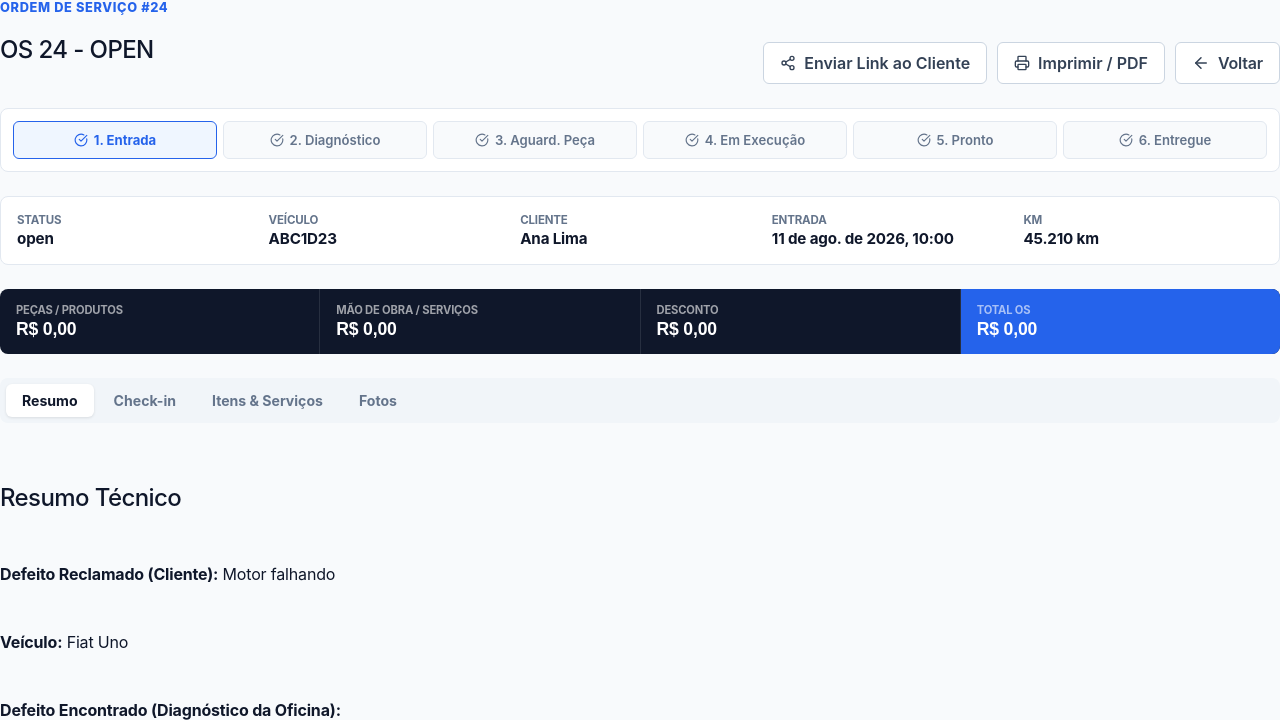
Test: service order workflow › displays detailed error message when item insertion fails
Expected: the heading "OS 24 - OPEN" is shown, [0,35,168,64]
Click the tab "Itens & Serviços" at coordinates (268, 400), box [196,384,339,417]
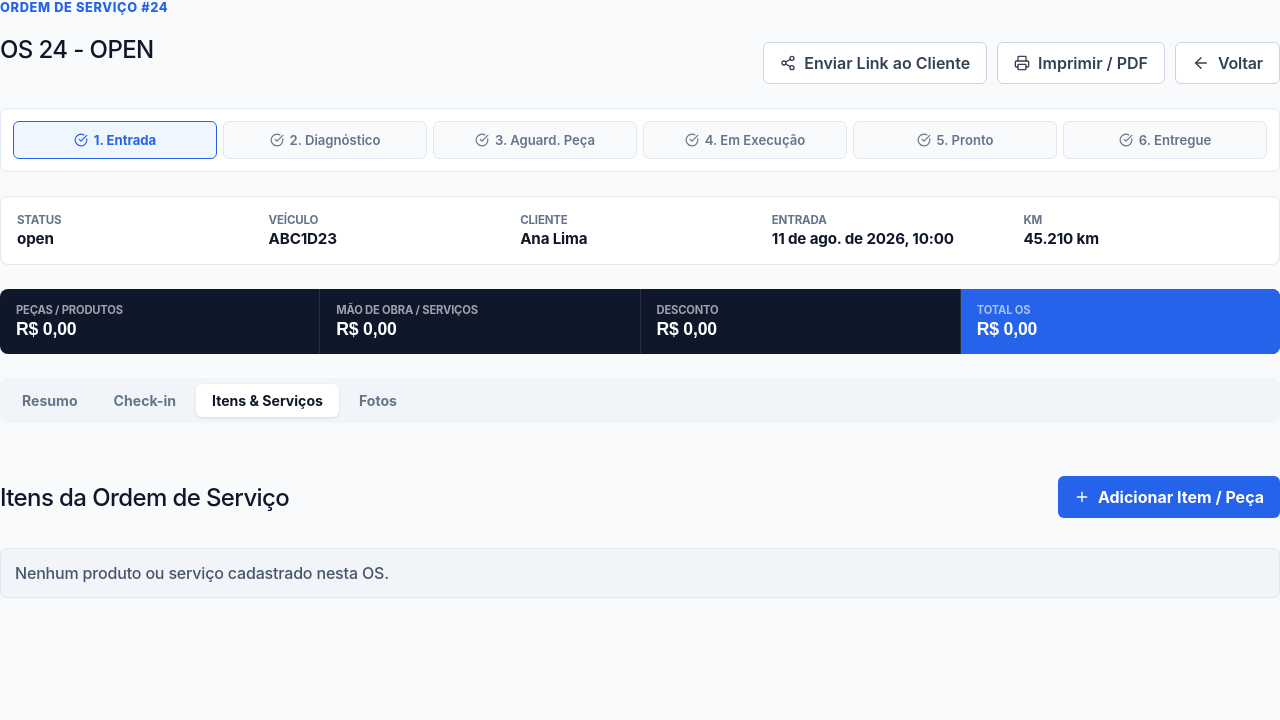
Click the button "Adicionar Item / Peça" at coordinates (1169, 497), box [1058,476,1279,518]
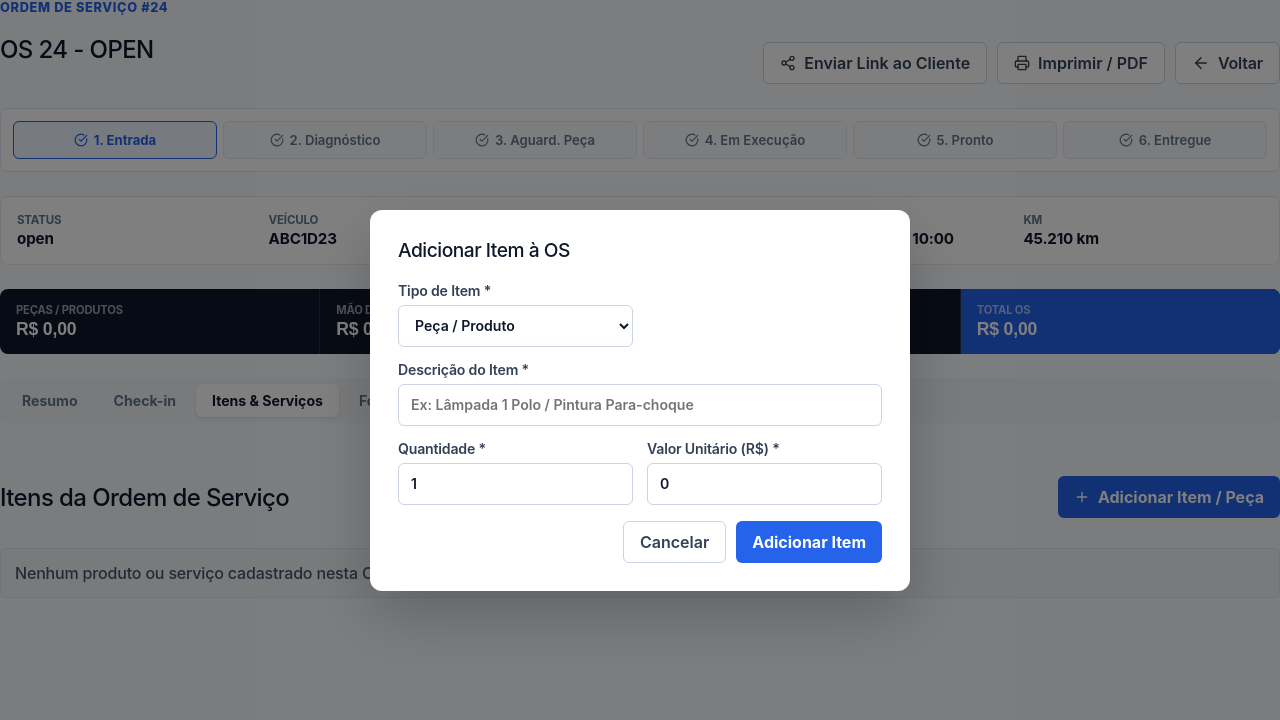
Type "Filtro de Óleo" into the field labelled "Descrição do Item *" at coordinates (640, 404), box [398,384,882,426]
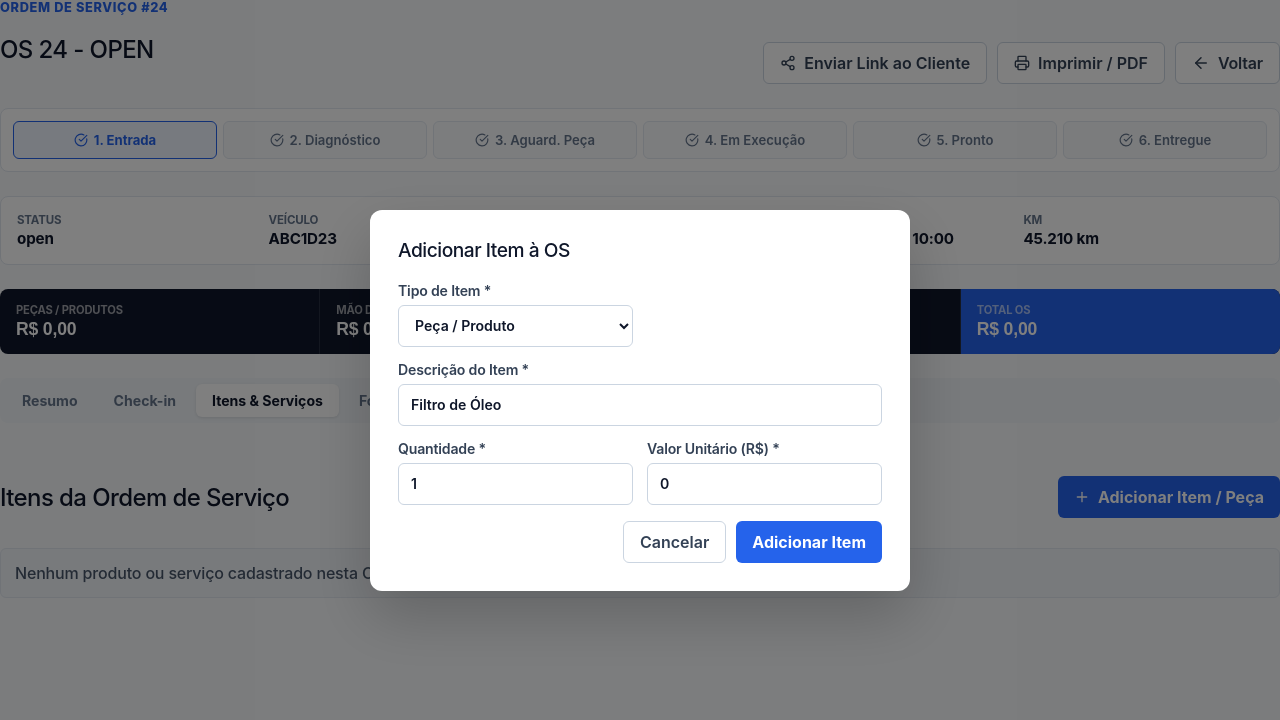
Submit the form named "Adicionar Item", box [398,282,882,562]
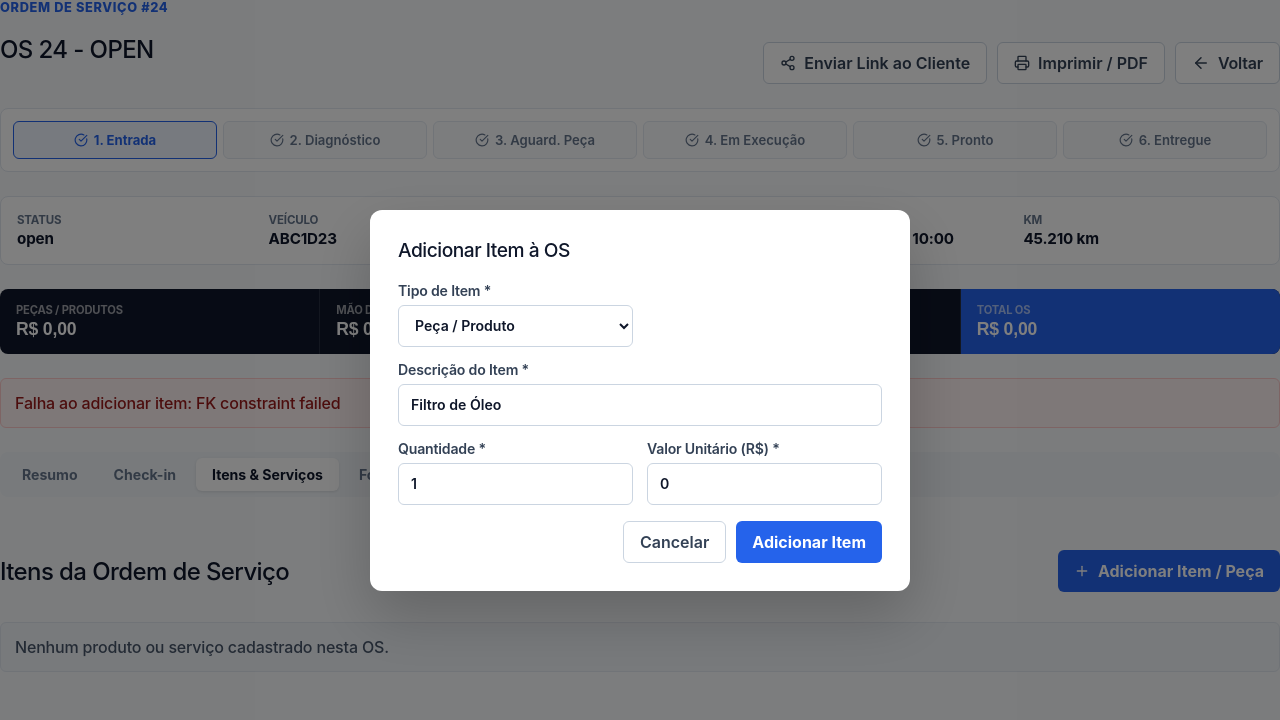
Expected: the text "Falha ao adicionar item: FK constraint failed" is shown, [0,378,1279,428]
